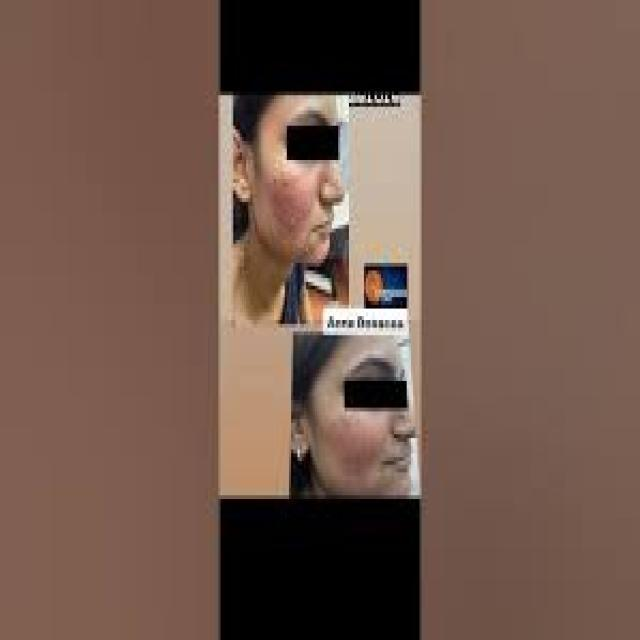Rosacea: (271, 177, 315, 232)
